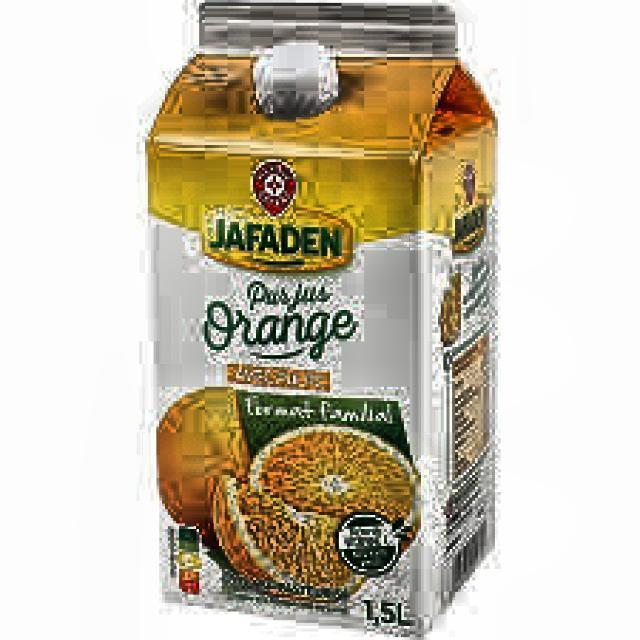cardboard: (145, 0, 498, 637)
